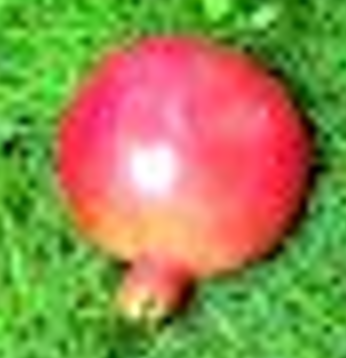pomegranate_A: (57, 37, 317, 328)
